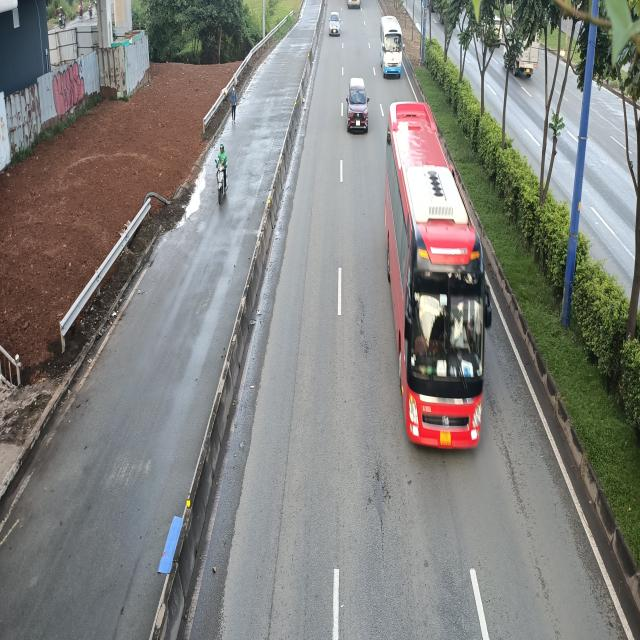car: (345, 79, 371, 133), (328, 10, 340, 36)
coach: (386, 102, 492, 454), (378, 16, 402, 78)
